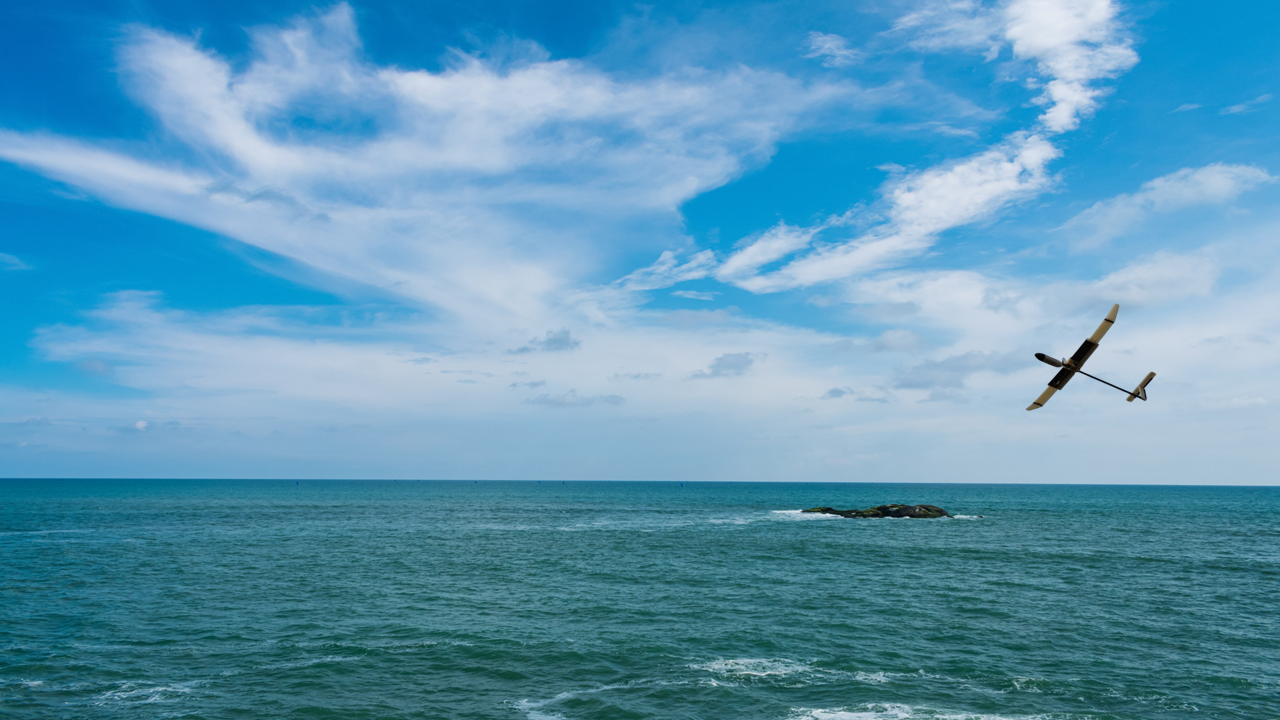military drone: (1026, 304, 1155, 411)
